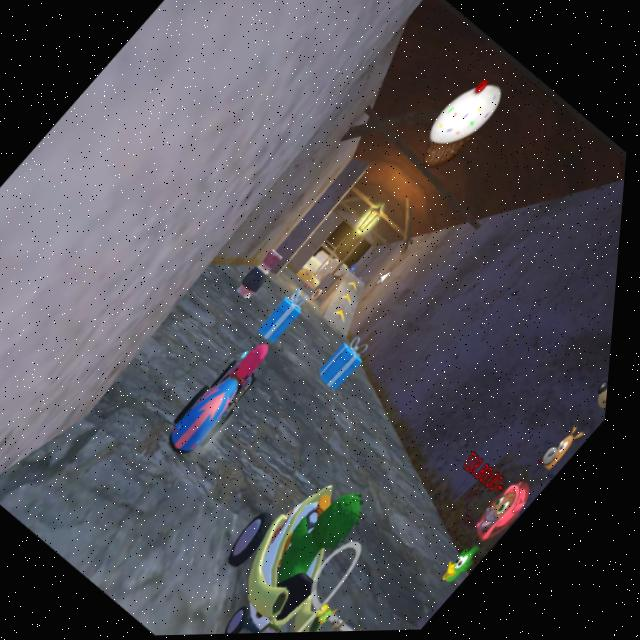bonus: (253, 281, 322, 352), (313, 333, 381, 401)
enemy_kart: (189, 448, 411, 636)
player_kart: (157, 332, 291, 471)
power_up: (331, 303, 364, 334), (344, 275, 371, 301)
